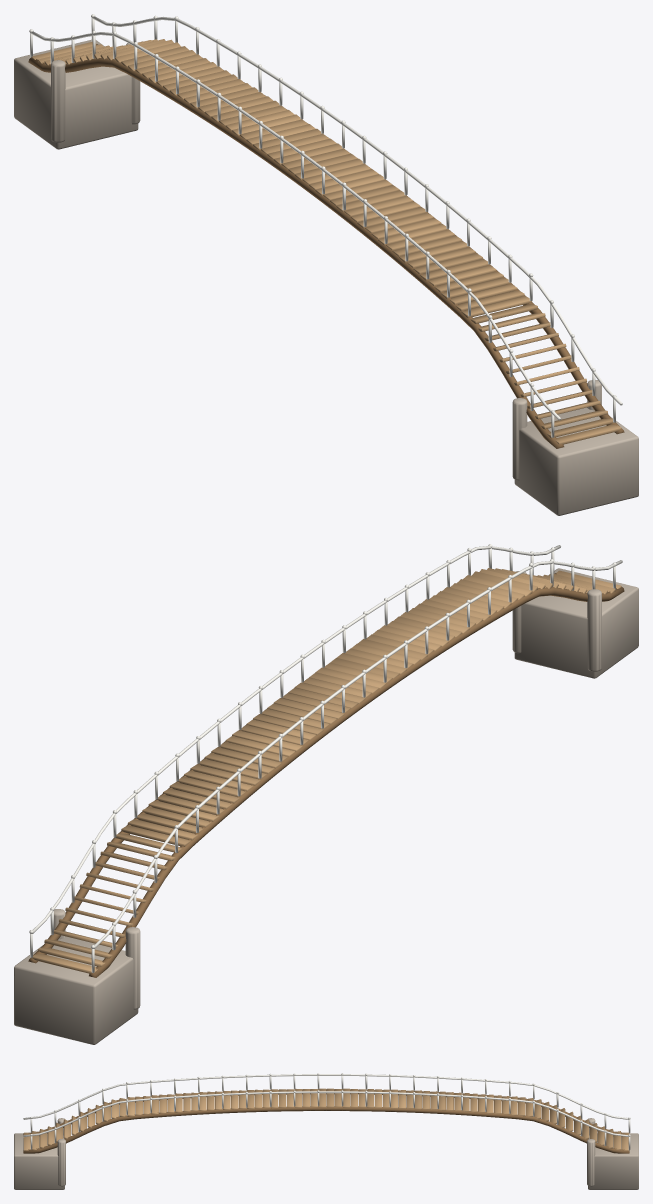
Rendered from arch_bridge.glb.
3 renders of one model, top to bottom at view 1: azimuth 30°, elevation 25°; view 2: azimuth 150°, elevation 25°; view 3: azimuth 270°, elevation 25°, orthographic. The views are drawn at different scales.
Parts seen in each view (by area): view 1: Arch_Bridge_Deck, Arch_Bridge_Abutments, Arch_Bridge_Rails, Arch_Bridge_Stringers; view 2: Arch_Bridge_Deck, Arch_Bridge_Abutments, Arch_Bridge_Rails, Arch_Bridge_Stringers; view 3: Arch_Bridge_Deck, Arch_Bridge_Rails, Arch_Bridge_Abutments, Arch_Bridge_Stringers.
Boxes of the visible parts, box(x1,y1,x2,y2) form: Arch_Bridge_Deck: box(31, 39, 621, 444); Arch_Bridge_Abutments: box(14, 39, 638, 515); Arch_Bridge_Rails: box(29, 14, 622, 437); Arch_Bridge_Stringers: box(28, 44, 624, 448); Arch_Bridge_Deck: box(31, 568, 621, 973); Arch_Bridge_Abutments: box(14, 568, 638, 1044); Arch_Bridge_Rails: box(29, 544, 622, 972); Arch_Bridge_Stringers: box(28, 573, 624, 977); Arch_Bridge_Deck: box(23, 1088, 629, 1150); Arch_Bridge_Rails: box(23, 1073, 630, 1150); Arch_Bridge_Abutments: box(14, 1118, 638, 1189); Arch_Bridge_Stringers: box(23, 1089, 629, 1153).
Bounding box in the file's own units: 3.63 × 6.73 × 39.2.
